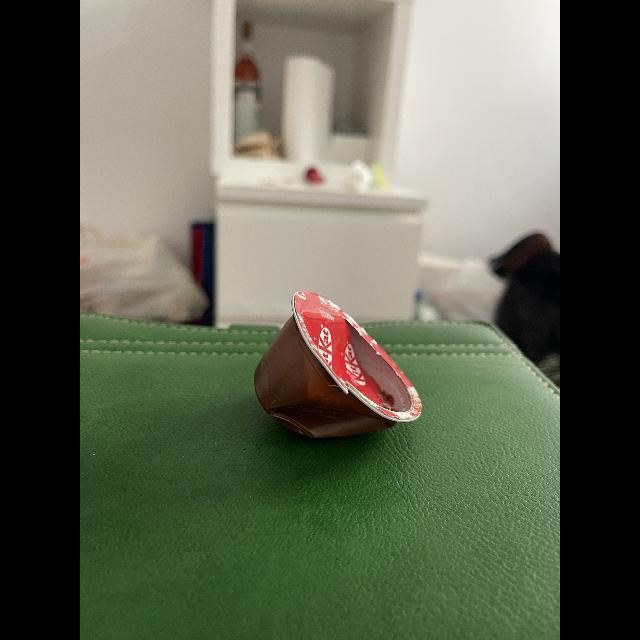damaged_capsule: (242, 289, 440, 461)
